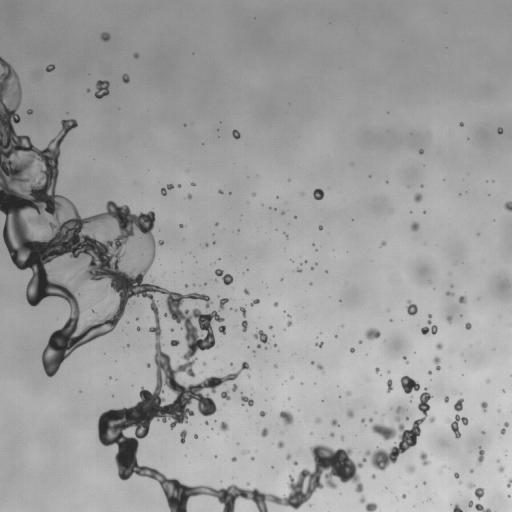droplet: (447, 414, 468, 438), (400, 376, 419, 393), (421, 315, 437, 335), (468, 483, 484, 499), (95, 80, 109, 98), (278, 411, 293, 425), (254, 330, 268, 343), (406, 300, 417, 315), (365, 328, 380, 339), (313, 188, 324, 199), (454, 398, 463, 411), (420, 452, 429, 465), (219, 298, 228, 310), (365, 502, 377, 511), (101, 32, 110, 41), (220, 421, 228, 431), (232, 129, 240, 138), (414, 193, 422, 202), (411, 222, 419, 231), (221, 391, 229, 400), (504, 201, 511, 211), (241, 320, 247, 331), (346, 410, 354, 418), (122, 74, 129, 83), (218, 325, 225, 334), (261, 428, 268, 437), (453, 504, 462, 511), (46, 64, 54, 71), (407, 466, 415, 473), (250, 299, 259, 305), (240, 307, 246, 316), (170, 340, 179, 346), (481, 402, 487, 411), (459, 296, 466, 303), (331, 419, 338, 426), (436, 343, 442, 350), (277, 441, 283, 448), (315, 342, 323, 347), (465, 323, 471, 329), (316, 364, 322, 370), (26, 109, 33, 114), (497, 127, 502, 134), (360, 496, 365, 503), (232, 384, 237, 390), (429, 416, 434, 422), (499, 466, 504, 472), (454, 472, 459, 478), (446, 291, 453, 295), (133, 53, 138, 58), (158, 240, 163, 245), (260, 411, 265, 416), (315, 418, 320, 423), (286, 454, 291, 459), (447, 316, 451, 322), (287, 320, 291, 326), (350, 347, 354, 353), (444, 396, 448, 402), (396, 406, 400, 412), (419, 149, 423, 154), (381, 241, 385, 246), (244, 289, 248, 294), (375, 367, 379, 372), (459, 122, 463, 126), (218, 190, 222, 194), (284, 233, 288, 237), (297, 268, 301, 272), (257, 344, 261, 348), (347, 391, 351, 395), (330, 433, 334, 437), (232, 457, 236, 461), (293, 461, 297, 465), (252, 192, 255, 196), (188, 194, 191, 198), (274, 302, 277, 306), (287, 314, 290, 318), (268, 326, 272, 329), (361, 419, 365, 422), (369, 418, 372, 422), (251, 456, 254, 460), (402, 494, 405, 498), (191, 182, 194, 185), (180, 224, 183, 227), (319, 226, 322, 229), (147, 364, 150, 367), (372, 475, 375, 478), (423, 481, 426, 484), (87, 89, 89, 92), (178, 184, 180, 187), (137, 327, 140, 329), (171, 328, 173, 331), (359, 340, 361, 343), (311, 361, 313, 364), (428, 371, 431, 373), (405, 417, 408, 419), (482, 431, 484, 434), (194, 435, 197, 437), (341, 436, 343, 439), (214, 455, 217, 457), (470, 470, 473, 472), (215, 223, 217, 225), (213, 241, 215, 243), (311, 267, 313, 269), (93, 310, 95, 312), (274, 344, 276, 346), (403, 357, 405, 359), (274, 365, 276, 367), (248, 375, 250, 377), (290, 376, 292, 378), (486, 380, 488, 382), (205, 422, 207, 424)
ligament: (0, 57, 425, 511), (215, 269, 233, 285), (468, 501, 491, 511), (161, 184, 173, 195), (241, 395, 253, 406), (477, 447, 484, 464), (500, 422, 508, 434), (433, 357, 440, 370), (387, 378, 393, 392), (180, 430, 186, 443), (507, 478, 511, 487)
